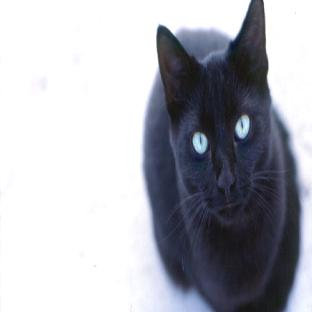Animal: (144, 0, 300, 311)
